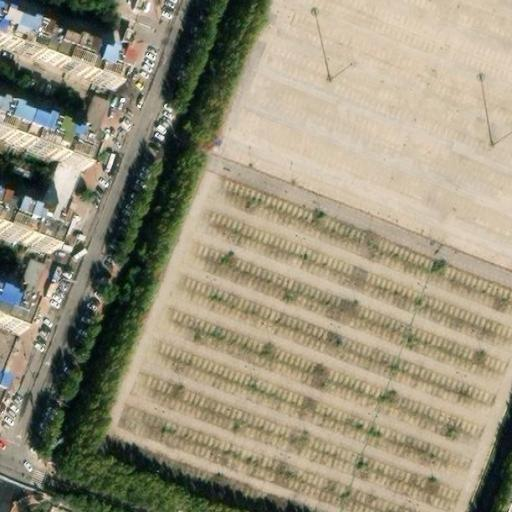building: (33, 164, 82, 226)
